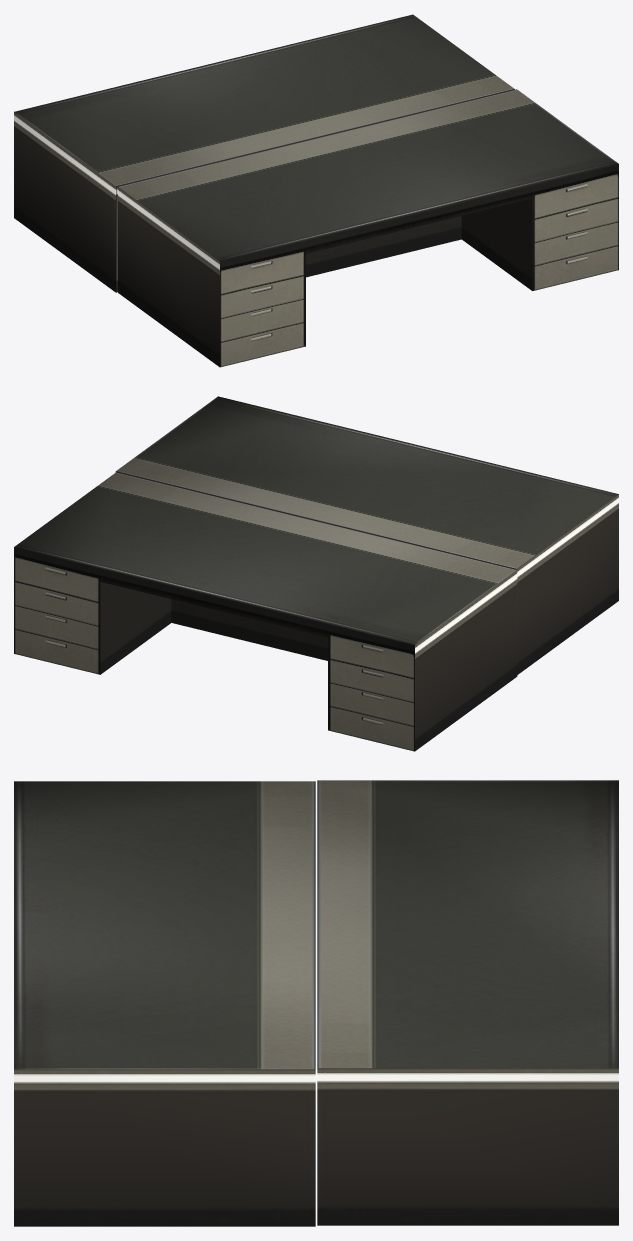
The model's file is 3DGJ_JYJY_zhuozi_xp_wmr_mo.FBX.
The picture shows the model from 3 angles, top to bottom: view 1: azimuth 30°, elevation 25°; view 2: azimuth 150°, elevation 25°; view 3: azimuth 270°, elevation 25°; orthographic projection. The views are drawn at different scales.
Parts seen in each view (by area): view 1: DGJ_JYJY_zhuozi_xp_wmr1; view 2: DGJ_JYJY_zhuozi_xp_wmr1; view 3: DGJ_JYJY_zhuozi_xp_wmr1.
Part boxes in pixels (x1,y1,x2,y2): DGJ_JYJY_zhuozi_xp_wmr1: (14, 14, 618, 367); DGJ_JYJY_zhuozi_xp_wmr1: (14, 396, 618, 751); DGJ_JYJY_zhuozi_xp_wmr1: (14, 780, 618, 1226).
Bounding box in the file's own units: 2.98 × 0.7553 × 2.64.
